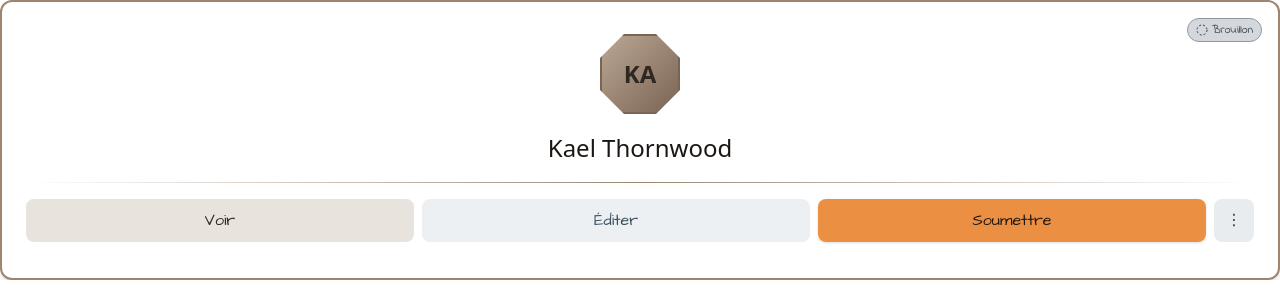
Scenario: CharacterCard — menu "⋮" (plus d'actions) › ferme le menu après avoir cliqué sur "Supprimer"
Click the button named "plus d'actions".
click(1234, 221)  # box [1214,199,1254,242]
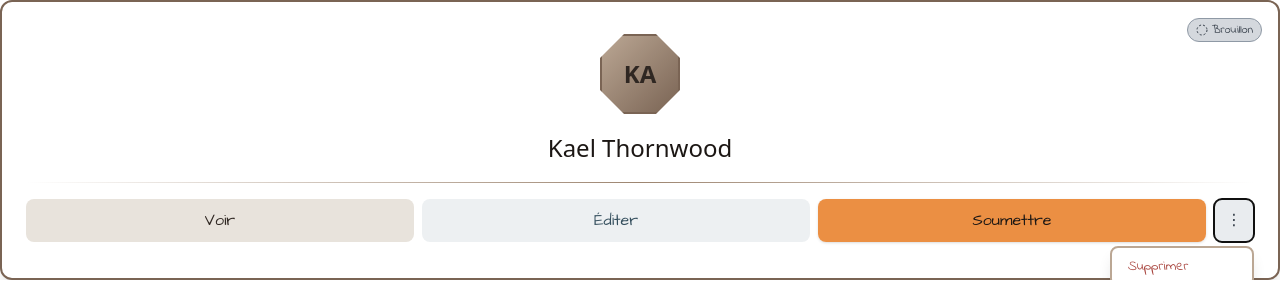
Check: the button "Supprimer" is shown
Click the button "Supprimer".
click(1182, 267)  # box [1112,248,1252,285]
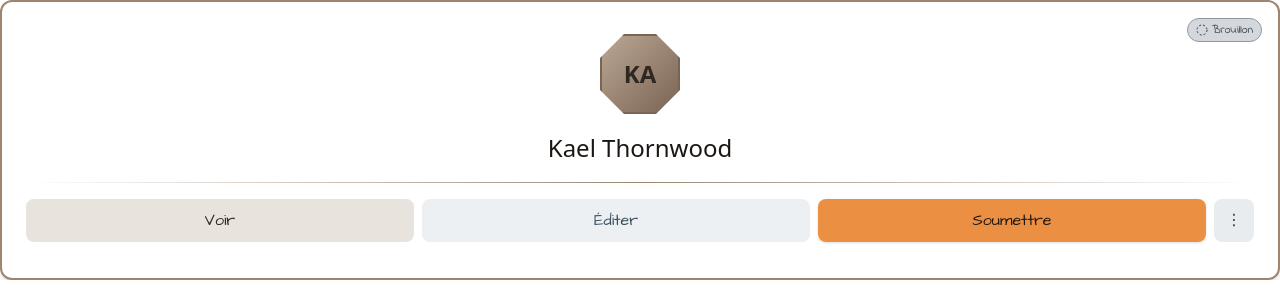
Check: the button "Supprimer" is gone
